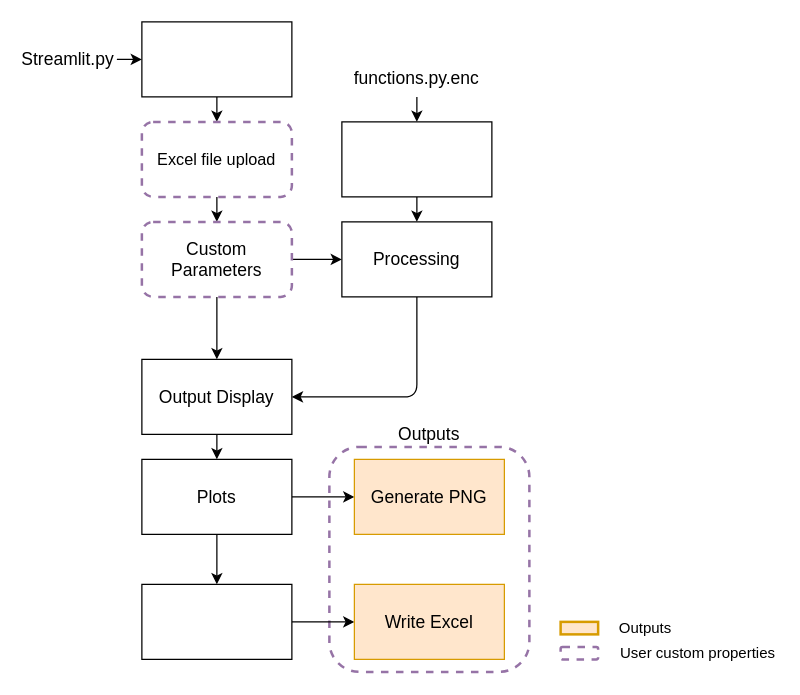
Some shapes in this 800 by 695 pixel diagram are drawn without their labels. The centre of each missing label's shape, as x and y in pixels:
"Decryption" goes at point (416, 159).
"Frontend" goes at point (216, 59).
"Tables" goes at point (216, 621).
